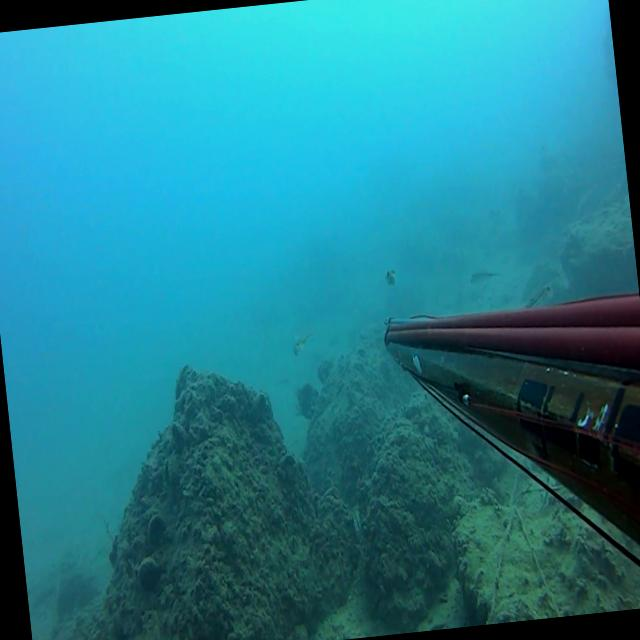Balon Baligi: (522, 284, 552, 310), (290, 331, 314, 356), (470, 268, 502, 286), (383, 268, 396, 286)
